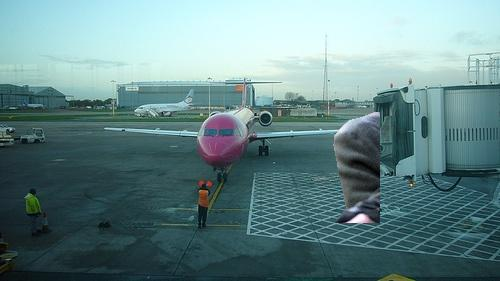tampered: (334, 113, 380, 223)
